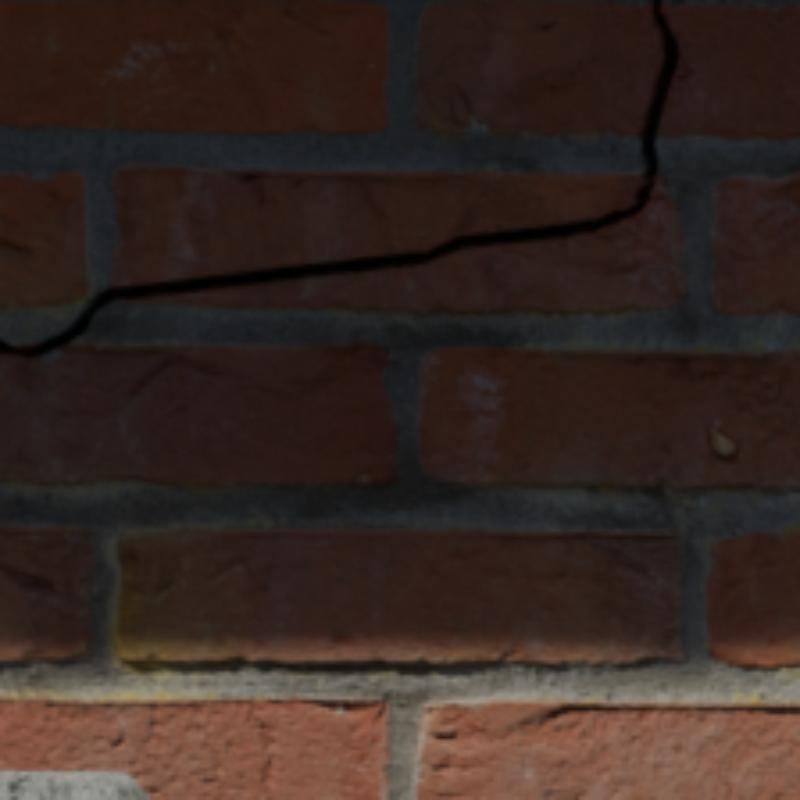crack: (0, 0, 675, 357)
